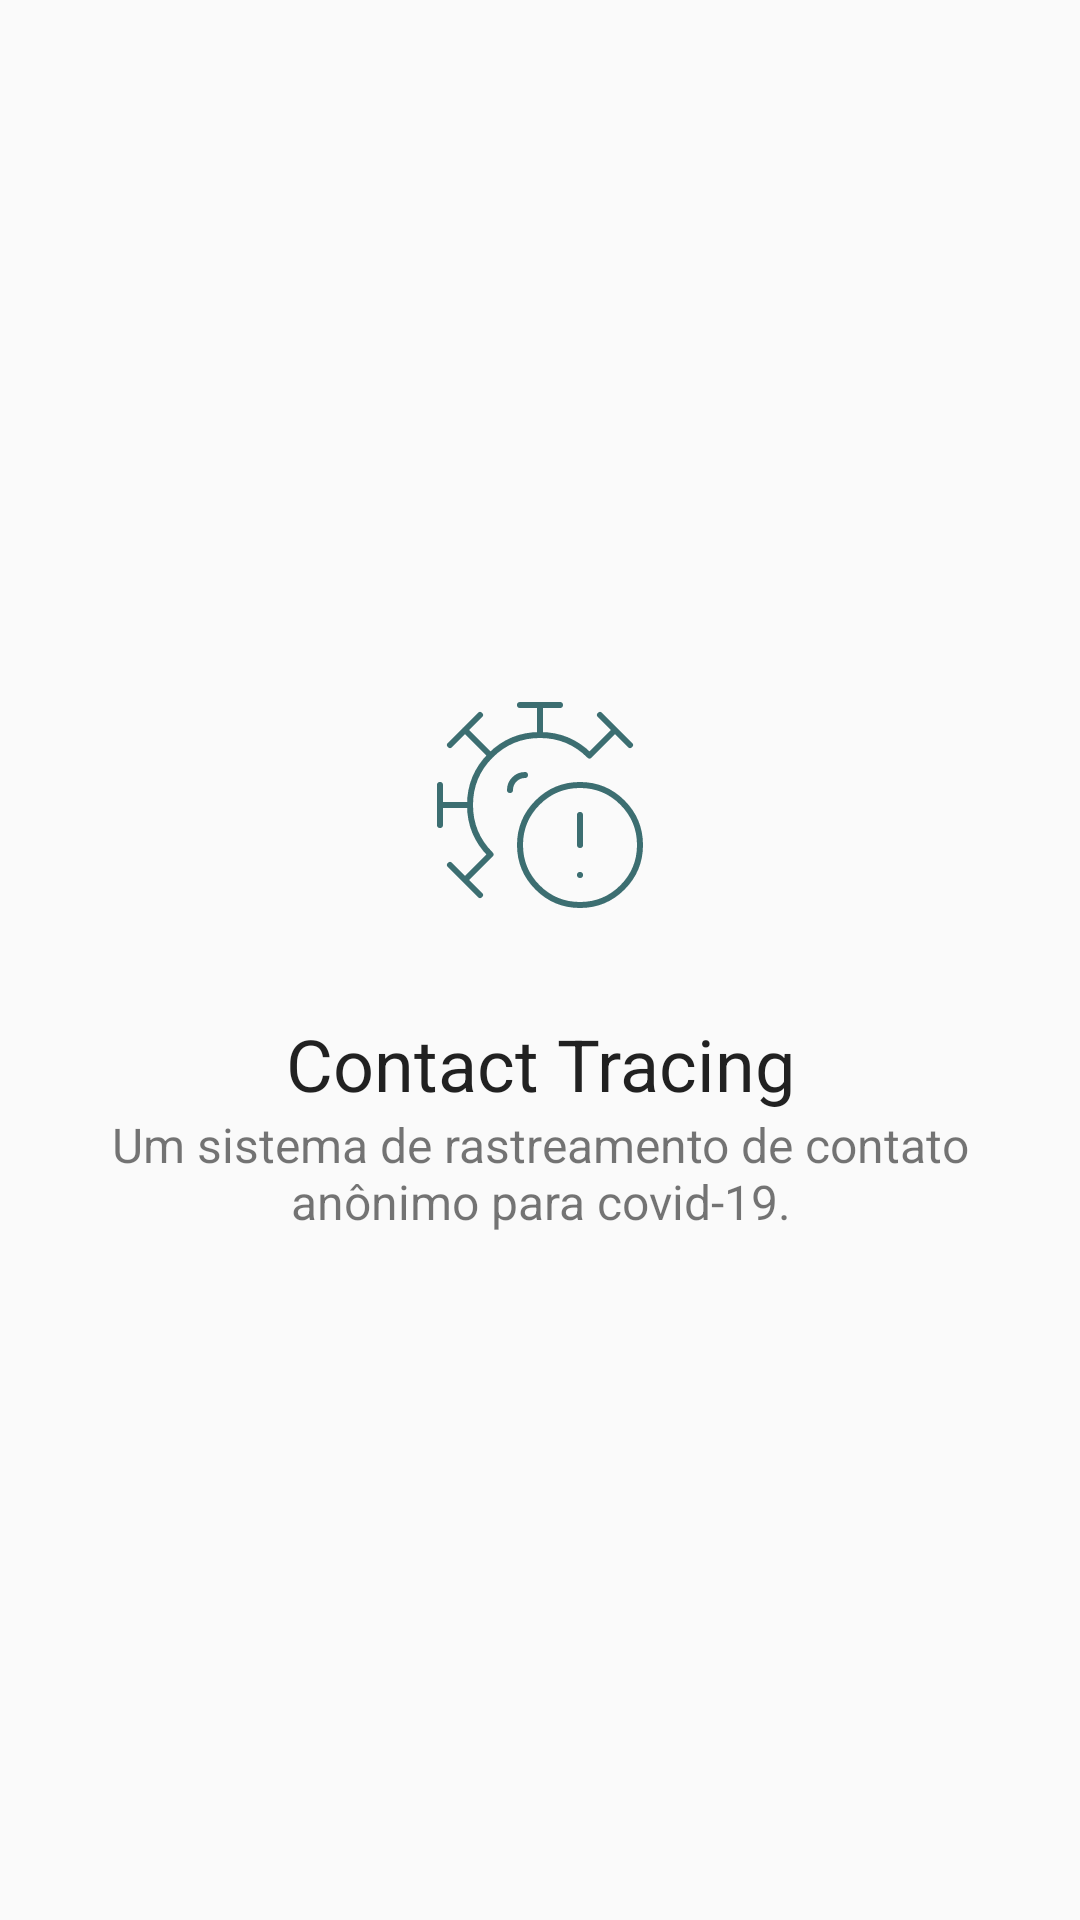

Point at icon controls on the screen. Image size 1080 × 1920, points as (x,y).
covid exclamation: (540,805)
